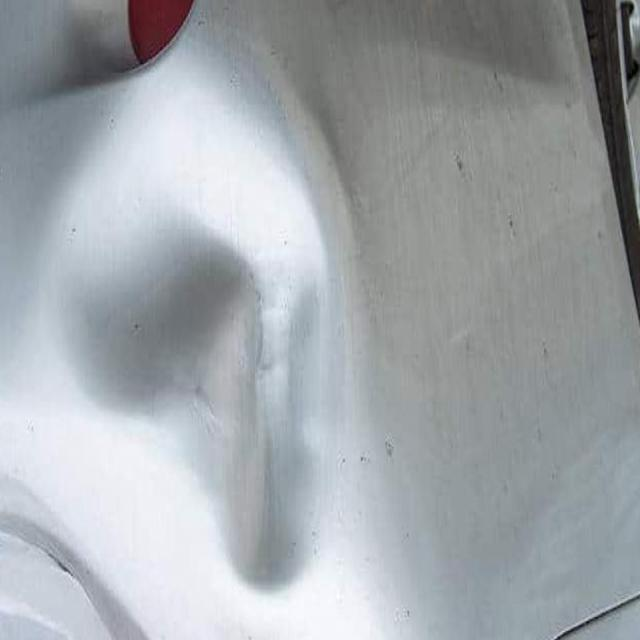dent: (48, 62, 344, 600)
